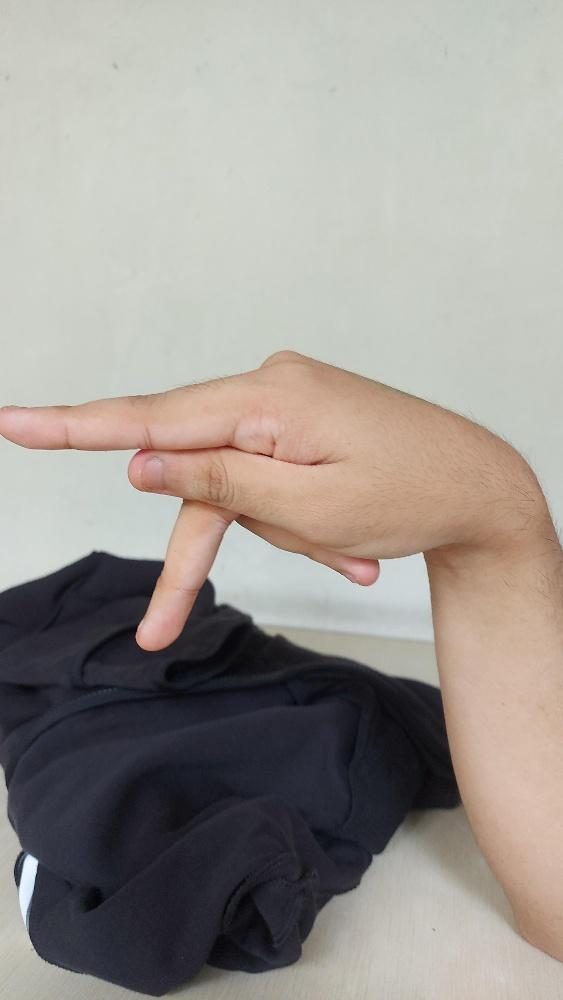p: (0, 348, 501, 651)
